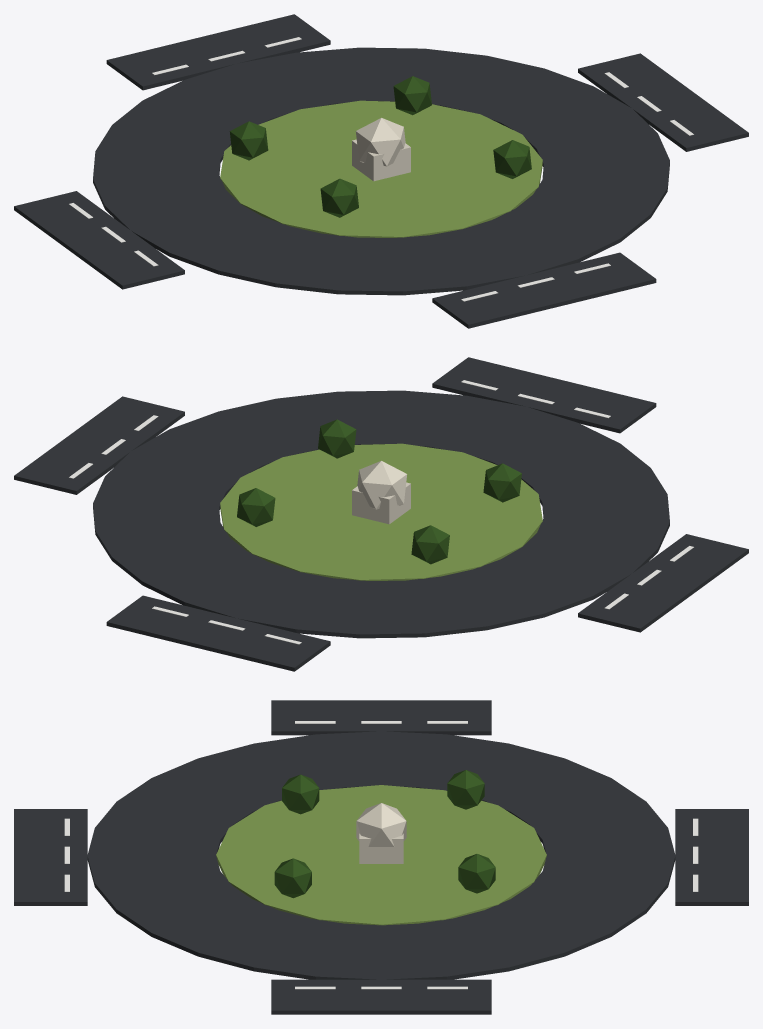
File: road.roundabout.glb
3 renders of one model, top to bottom at view 1: azimuth 30°, elevation 25°; view 2: azimuth 150°, elevation 25°; view 3: azimuth 270°, elevation 25°, orthographic.
Parts seen in each view (by area): view 1: road.roundabout; view 2: road.roundabout; view 3: road.roundabout.
Part boxes in pixels (left/top/right/bottom): road.roundabout: left=14, top=14, right=748, bottom=328; road.roundabout: left=14, top=357, right=748, bottom=671; road.roundabout: left=14, top=700, right=748, bottom=1014.
Bounding box in the file's own units: 20 × 1.7 × 20.
